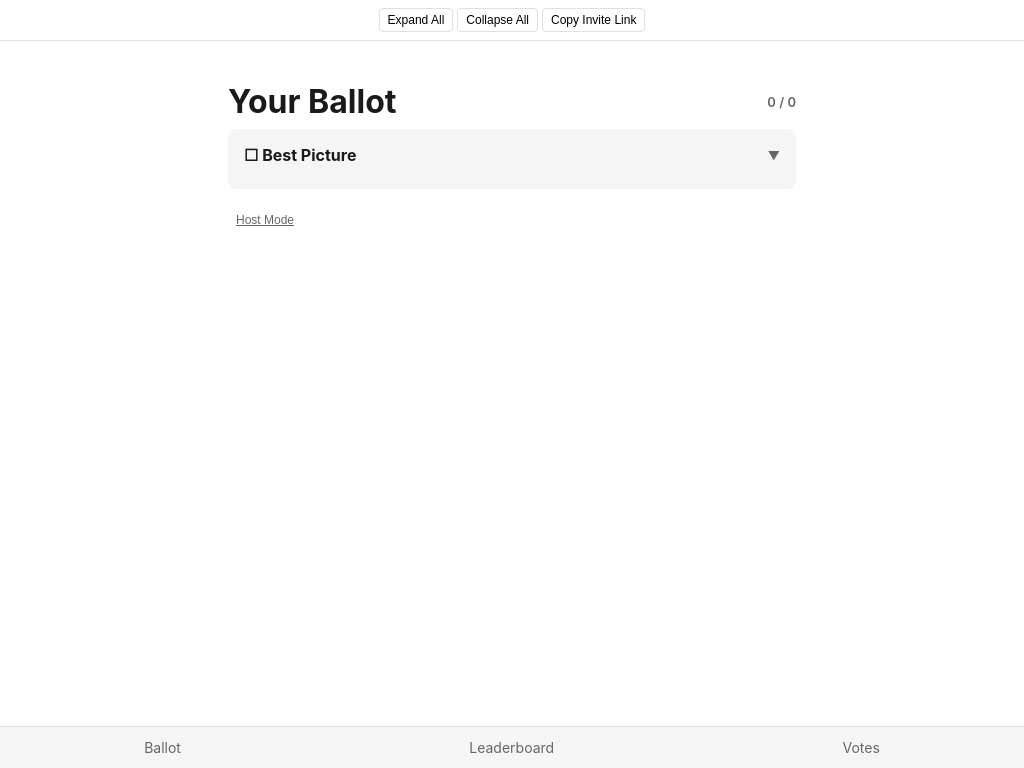
Ballot - Copy Invite Link › shows "Copied!" feedback after clicking
Step 1. Click the button "Copy Invite Link" → click(594, 20), box [542, 8, 645, 32]
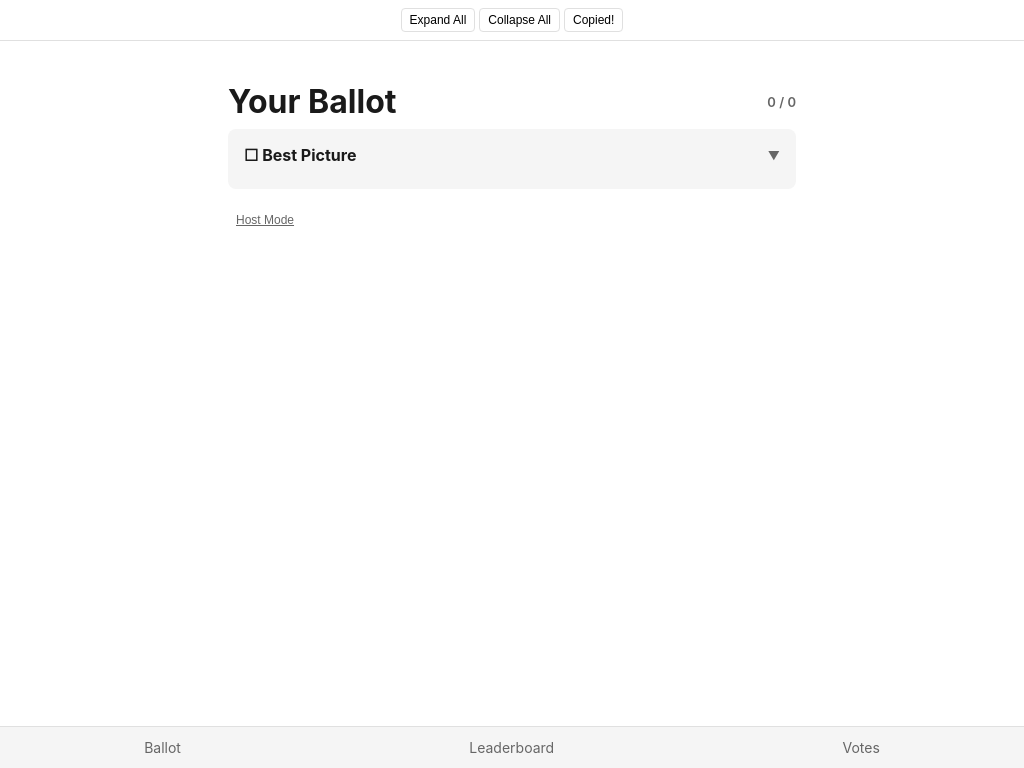
Now the button "Copied!" is shown, box [564, 8, 623, 32]
